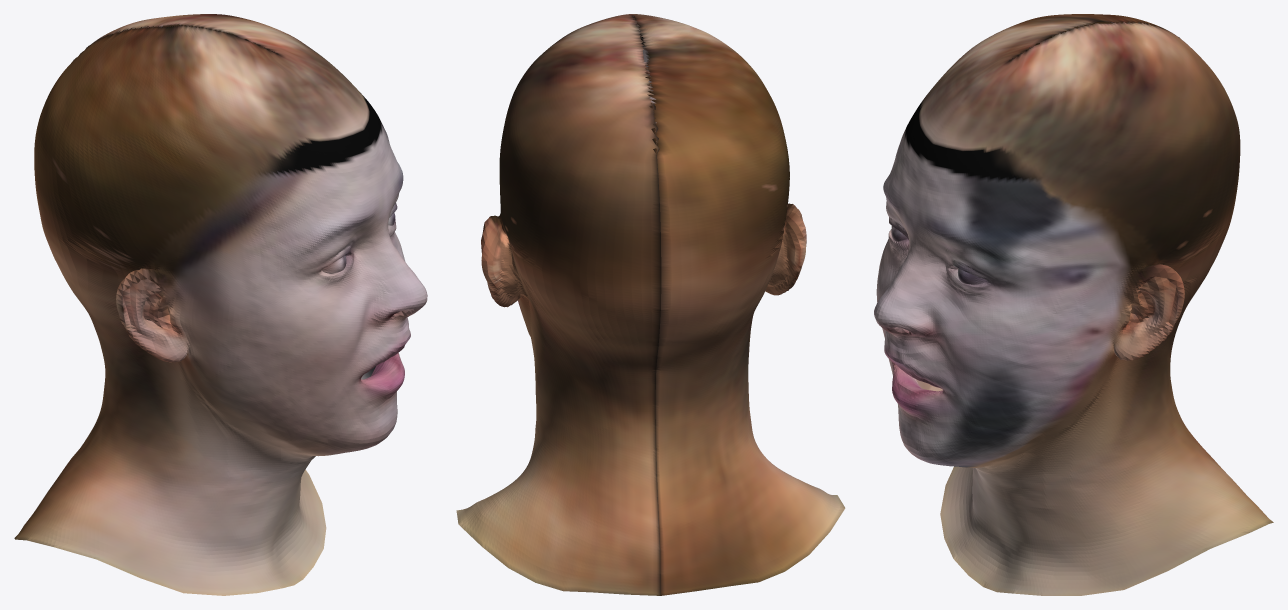
Rendered from cheo1_frame0010_detail.obj.
The picture shows the model from 3 angles, left to right: view 1: azimuth 30°, elevation 25°; view 2: azimuth 150°, elevation 25°; view 3: azimuth 270°, elevation 25°; orthographic projection.
Size of the model in its own units: 0.2143 by 0.3202 by 0.2178.
